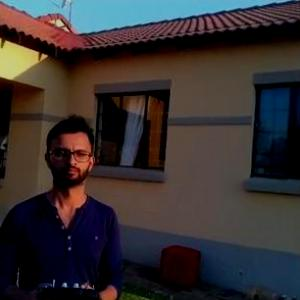follow: (0, 107, 126, 299)
null: (231, 270, 295, 299)
